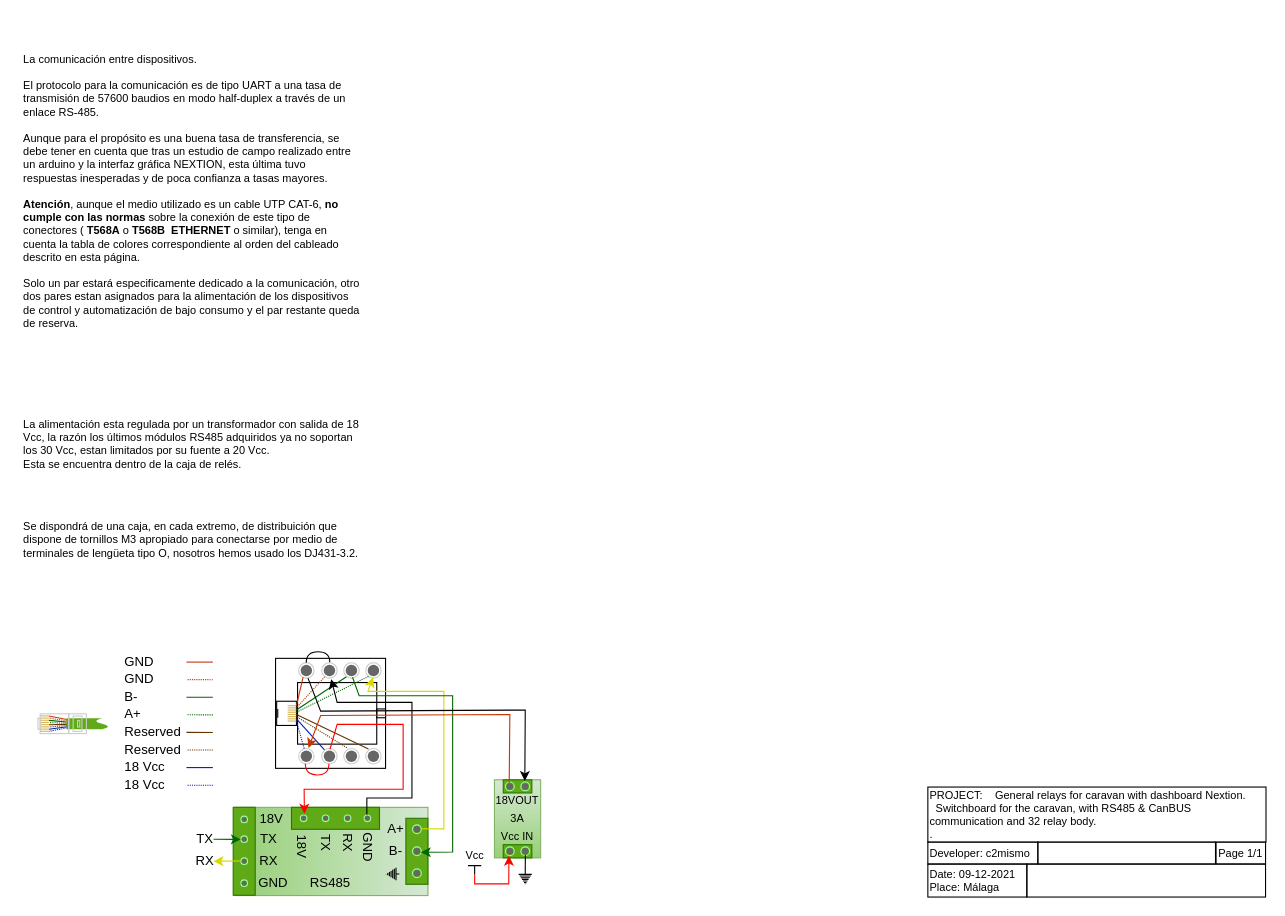
This 1285x916 diagram has some shape labels left out. Each missing label, with the centre of its shape:
"License: GNU GPL3 https://www.gnu.org/licenses/gpl.html" goes at (1146,880).
"WEB: github.com/c2mismo/caravan" goes at (1126,852).
